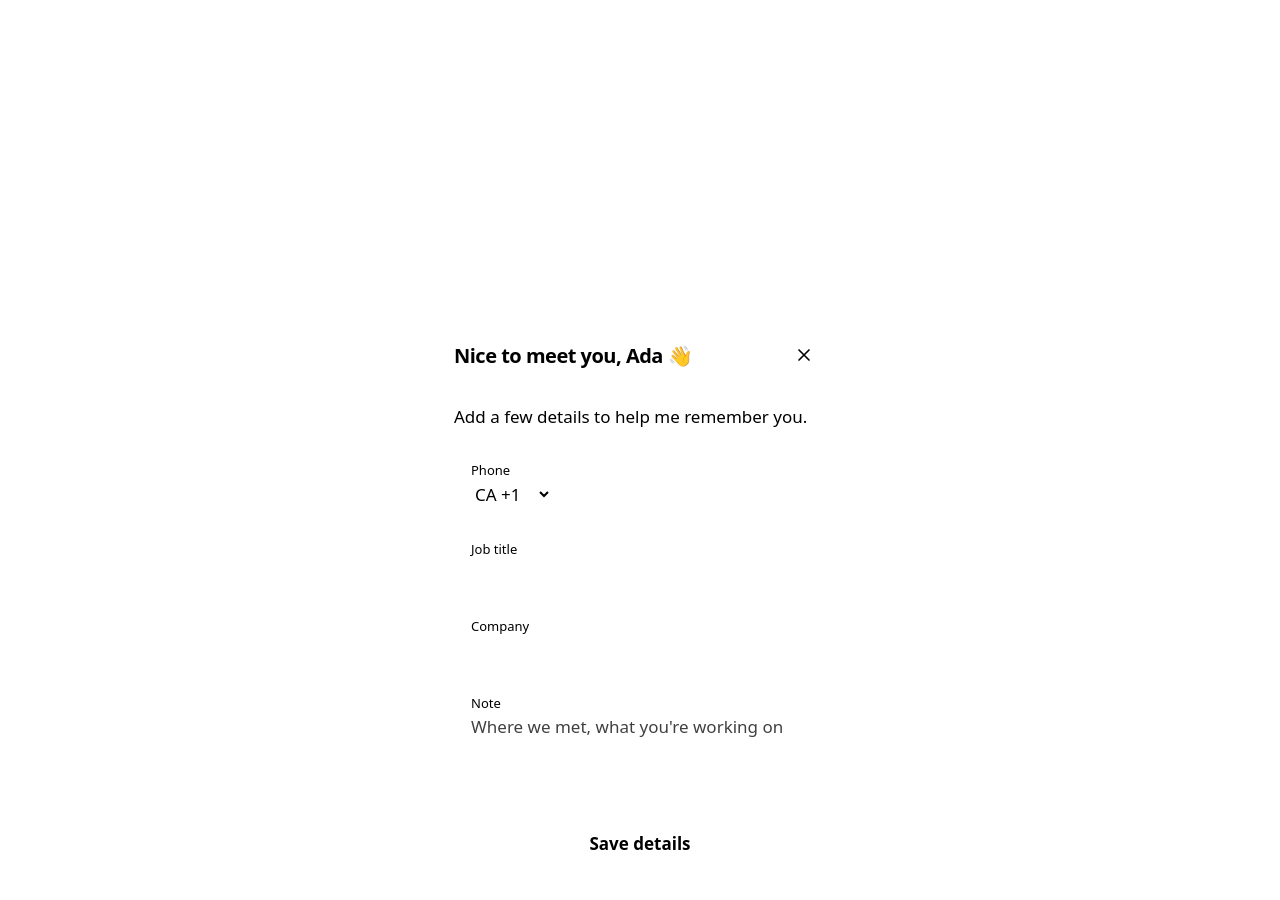
Test: HiExchangeSheet details submit › shows not-saved copy on a details server failure
The width and height of the screenshot is (1280, 900).
Click the button "Save details" at (640, 844), box [454, 816, 826, 872]
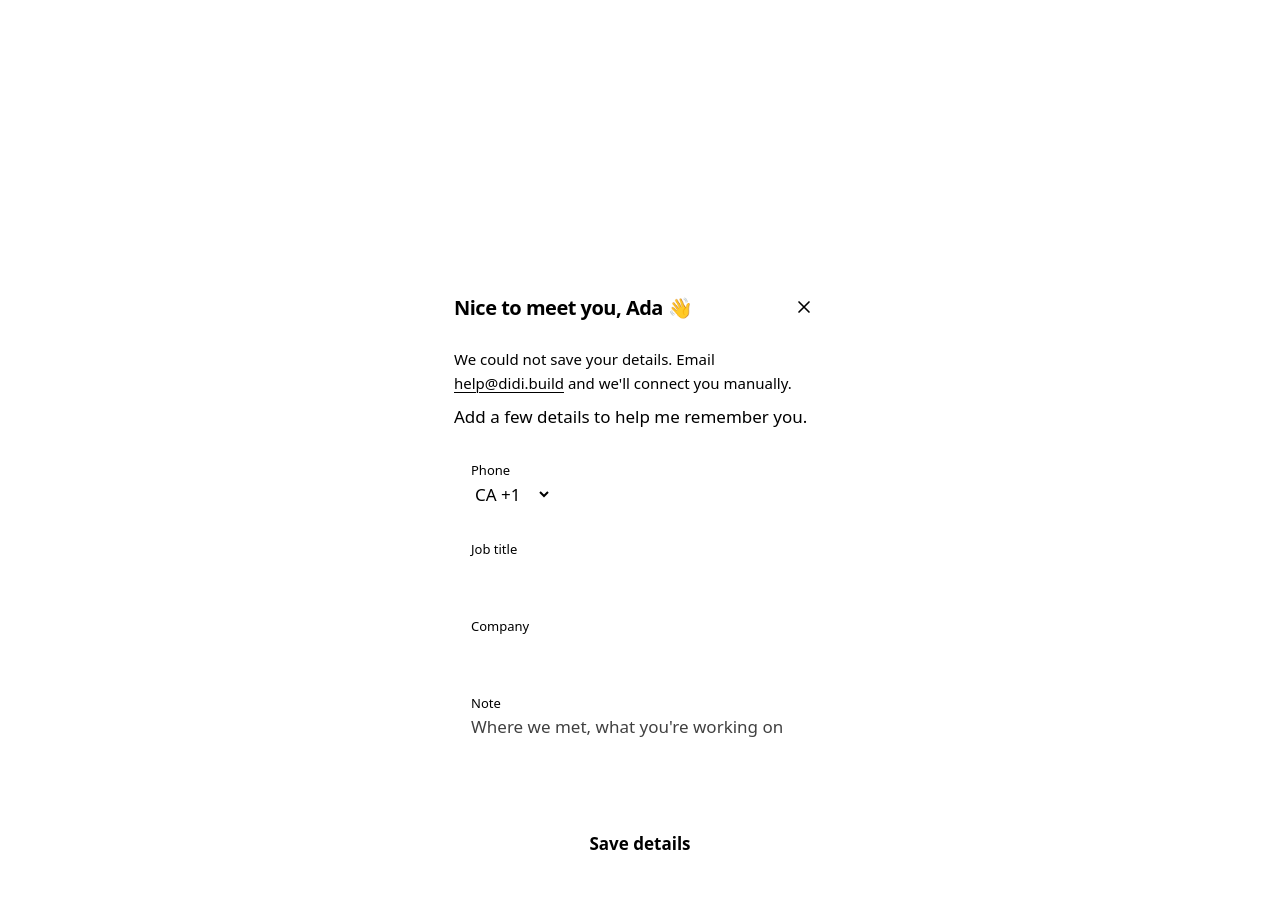
Expected: the message shows "We could not save your details. Email", [454, 349, 715, 369]
